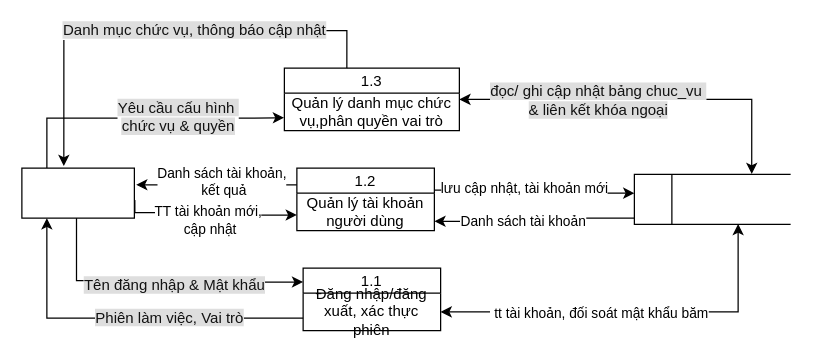
The diagram is 813 pixels wide and 360 high, and some of its shapes have lost their labels. Each missing label, with the centre of its shape:
D1 NGUOI_DUNG & CHUC_VU: the point at 712,198
Quản trị viên: the point at 77,192
